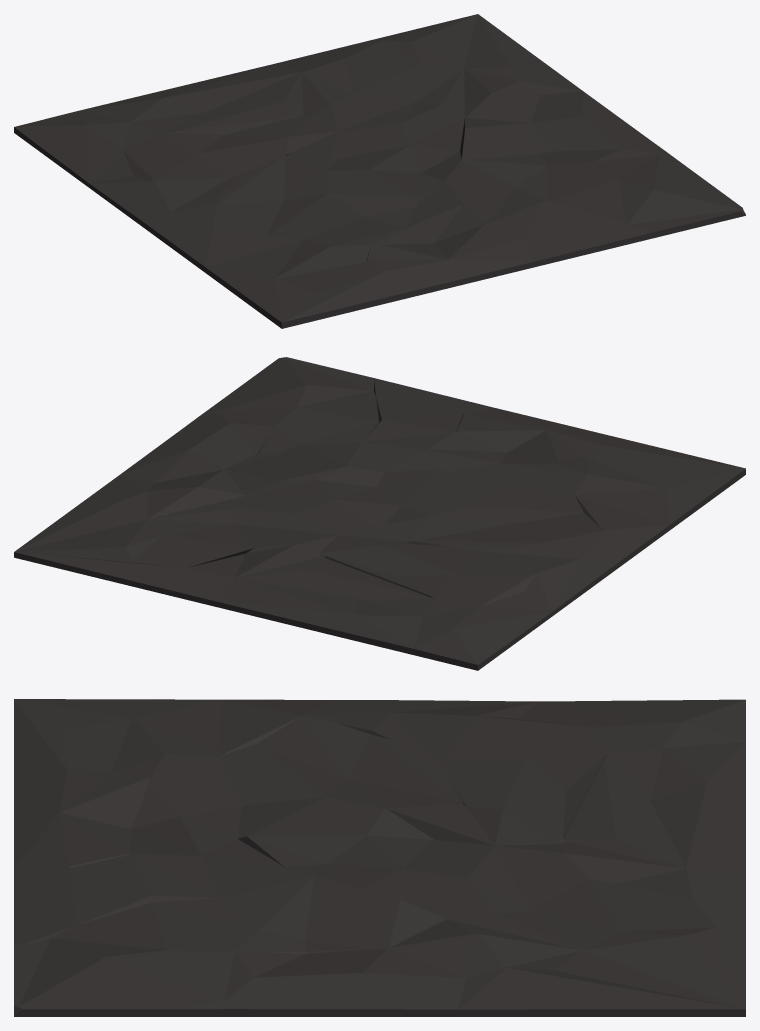
The model's file is Stone_Module_2M.glb.
The picture shows the model from 3 angles, top to bottom: view 1: azimuth 30°, elevation 25°; view 2: azimuth 150°, elevation 25°; view 3: azimuth 270°, elevation 25°; orthographic projection. The views are drawn at different scales.
Parts seen in each view (by area): view 1: Stone_Module_2M; view 2: Stone_Module_2M; view 3: Stone_Module_2M.
Boxes of the visible parts, left/top/right/bottom form: Stone_Module_2M: left=14, top=14, right=745, bottom=328; Stone_Module_2M: left=14, top=357, right=745, bottom=670; Stone_Module_2M: left=14, top=699, right=745, bottom=1016.
Size of what is drawn, in the model's own units: 2 by 0.0792 by 2.
1 material, 1 textured.
